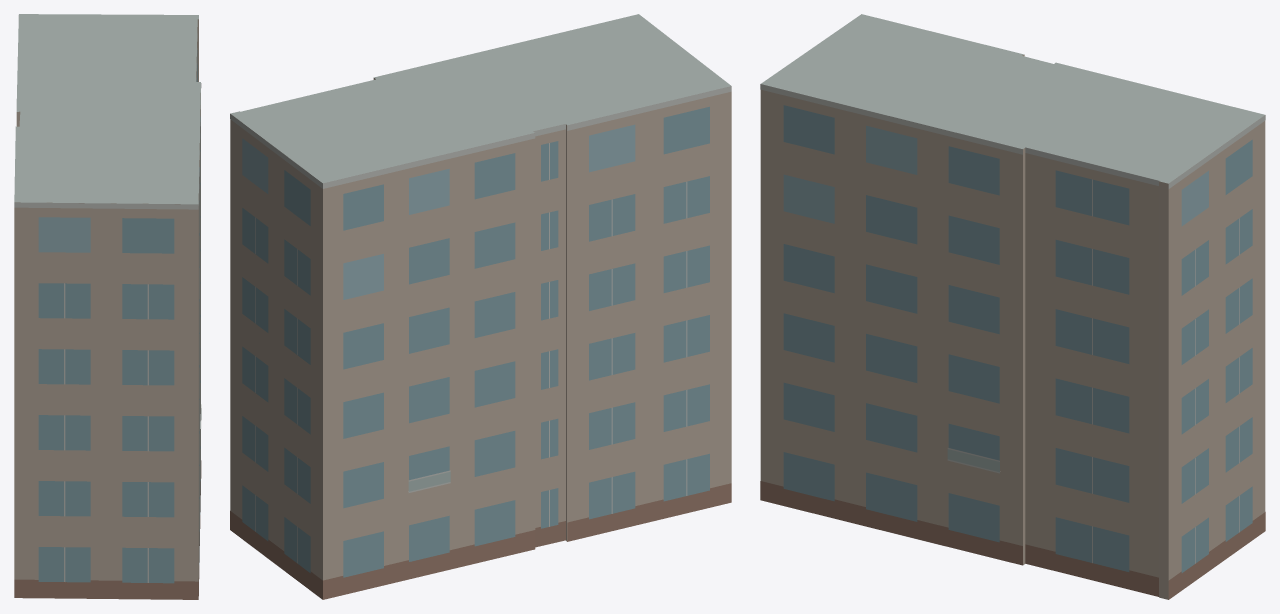
File: survey-upis-32842771.glb
3 renders of one model, left to right at view 1: azimuth 30°, elevation 25°; view 2: azimuth 150°, elevation 25°; view 3: azimuth 270°, elevation 25°, orthographic. The views are drawn at different scales.
Parts seen in each view (by area): view 1: survey-upis-32842771.tmp; view 2: survey-upis-32842771.tmp; view 3: survey-upis-32842771.tmp.
Boxes of the visible parts, left/top/right/bottom form: survey-upis-32842771.tmp: left=14, top=14, right=201, bottom=599; survey-upis-32842771.tmp: left=230, top=14, right=731, bottom=599; survey-upis-32842771.tmp: left=760, top=14, right=1265, bottom=599.
Bounding box in the file's own units: 16 × 18.3 × 20.13.
